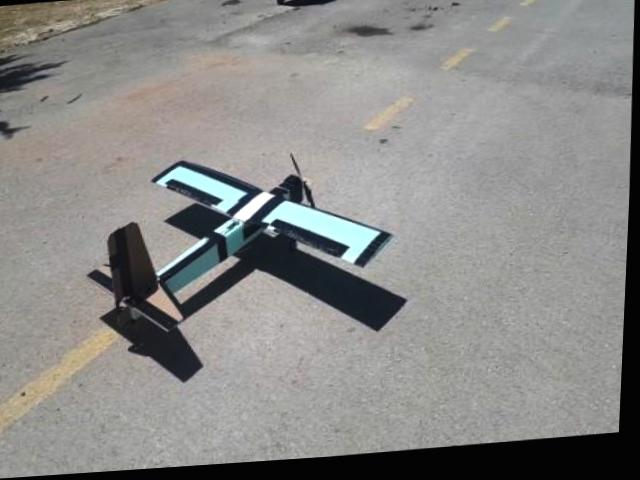uav: (85, 147, 404, 341)
